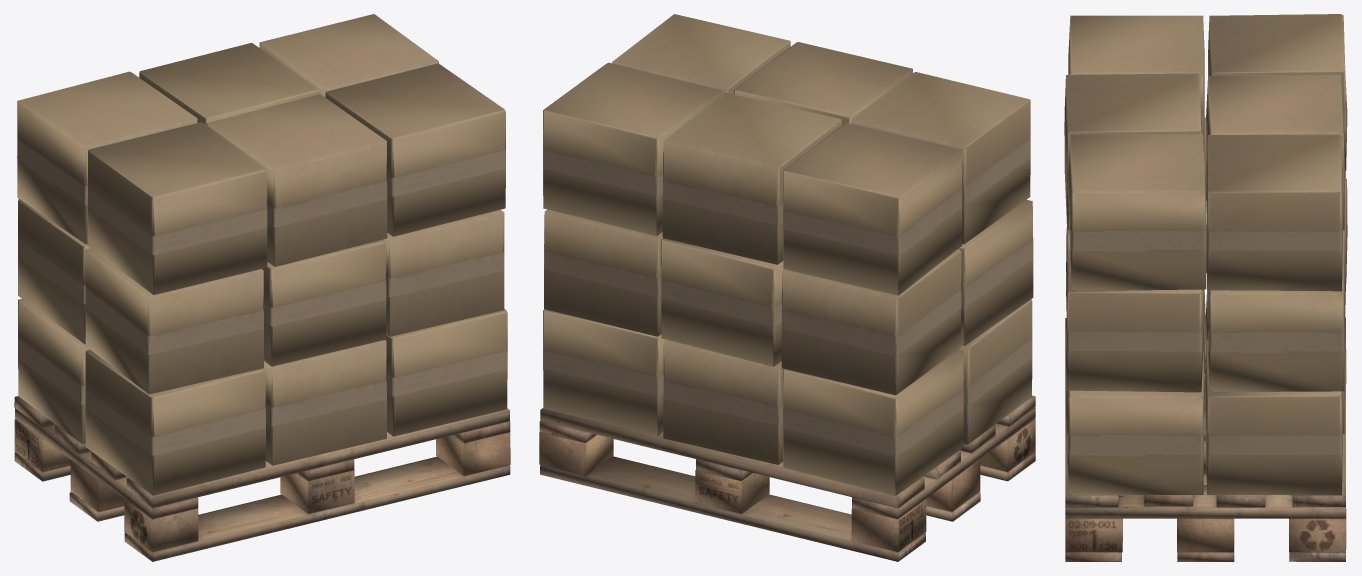
The model's file is pallet_loaded.glb.
3 views of the same model, side by side, from view 1: azimuth 30°, elevation 25°; view 2: azimuth 150°, elevation 25°; view 3: azimuth 270°, elevation 25° (orthographic). The views are drawn at different scales.
Parts seen in each view (by area): view 1: body; view 2: body; view 3: body.
Part boxes in pixels (x1,y1,x2,y2): body: (14, 14, 510, 561); body: (539, 14, 1035, 561); body: (1064, 14, 1347, 561).
Size of the model in its own units: 1.21 by 1.16 by 0.8043.
Materials: 2 (2 with a texture image).
